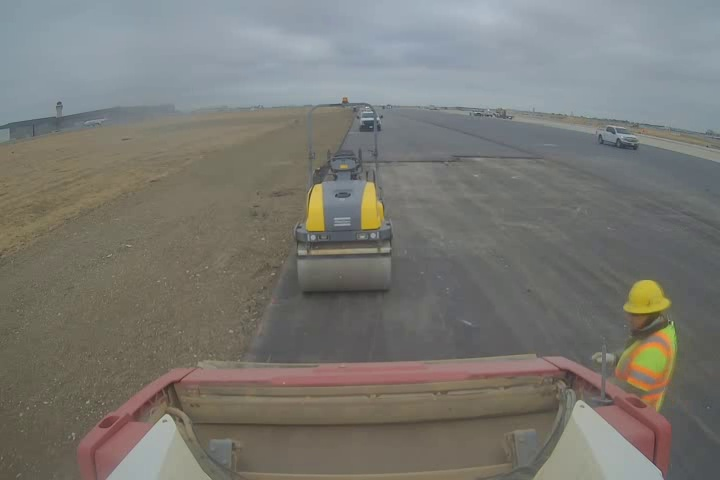person: (588, 275, 680, 417)
vehicle: (72, 351, 671, 480), (292, 102, 394, 293), (593, 119, 641, 150), (351, 108, 385, 130)
vest: (595, 319, 677, 408)
yellow_helmet: (618, 278, 671, 340)
